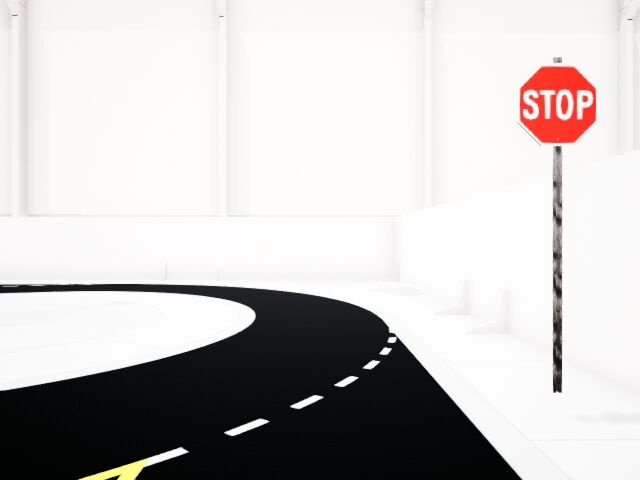stopsign: (521, 66, 595, 145)
